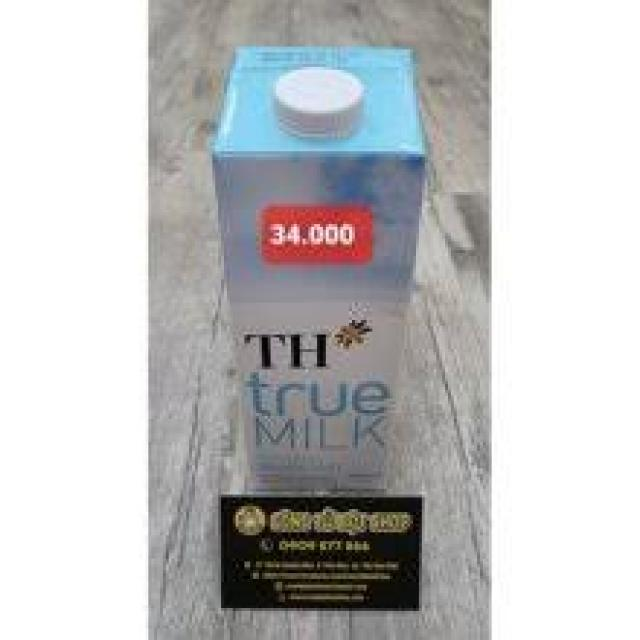non_white_jug: (205, 34, 426, 493)
